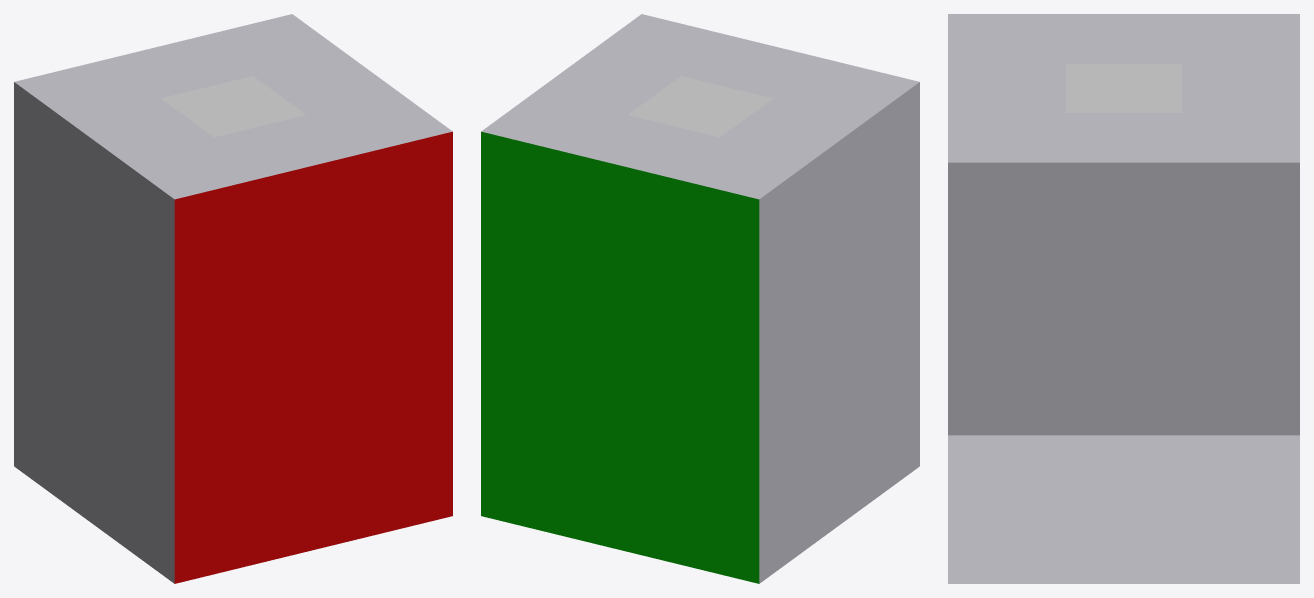
File: cornell_box.obj
The picture shows the model from 3 angles, left to right: view 1: azimuth 30°, elevation 25°; view 2: azimuth 150°, elevation 25°; view 3: azimuth 270°, elevation 25°; orthographic projection. The views are drawn at different scales.
Visible parts, largest first — view 1: Cube; view 2: Cube; view 3: Cube.
Boxes of the visible parts, left/top/right/bottom form: Cube: left=14, top=14, right=452, bottom=583; Cube: left=481, top=14, right=919, bottom=583; Cube: left=948, top=14, right=1299, bottom=583.
Size of the model in its own units: 3.77 by 4.98 by 3.77.
